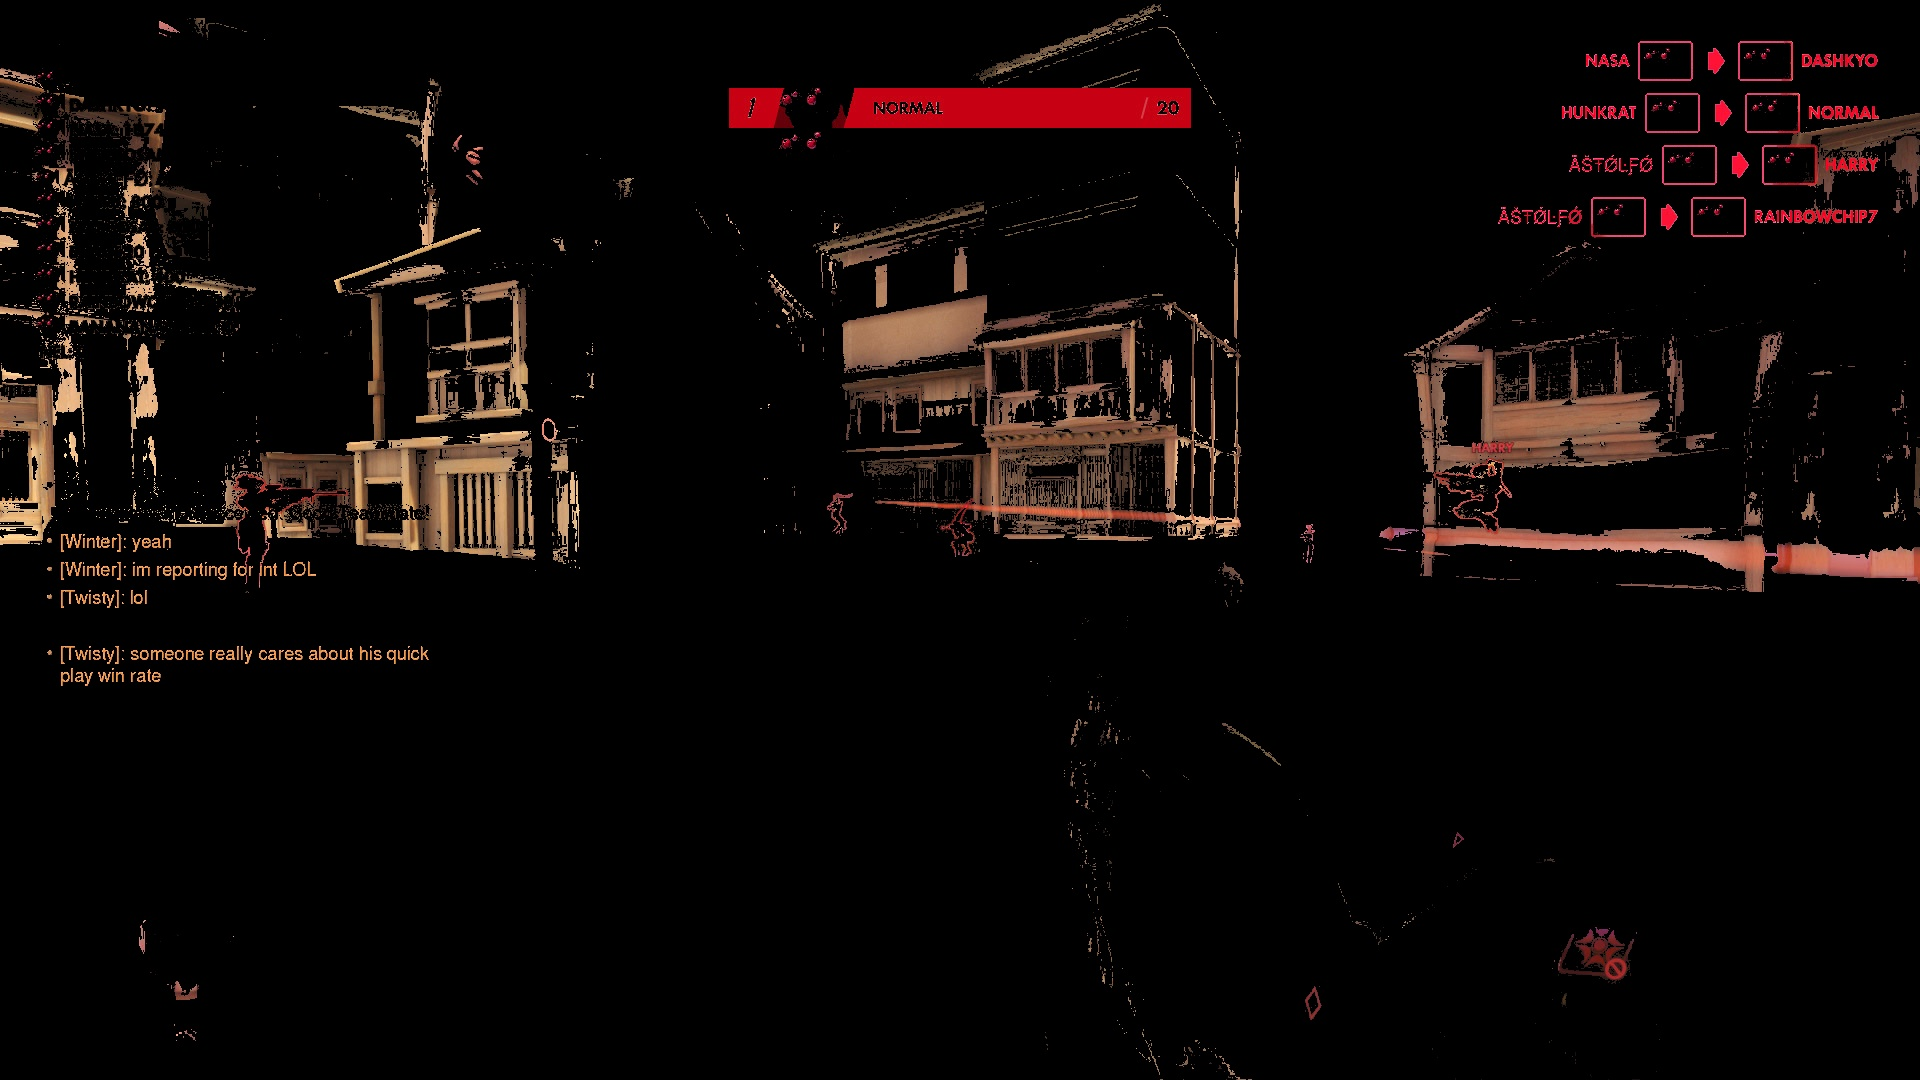widowmaker: (233, 471, 294, 604), (1444, 455, 1516, 539), (942, 509, 978, 564), (824, 493, 855, 541), (1298, 521, 1321, 566)
